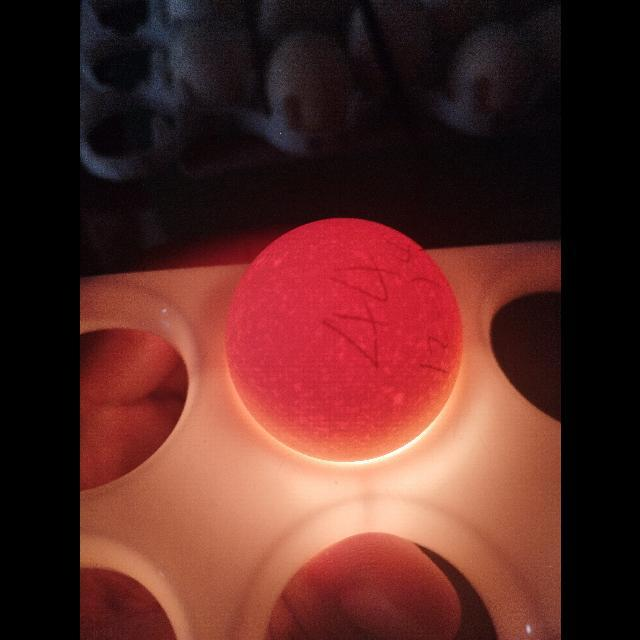Infertile: (220, 212, 466, 470)
